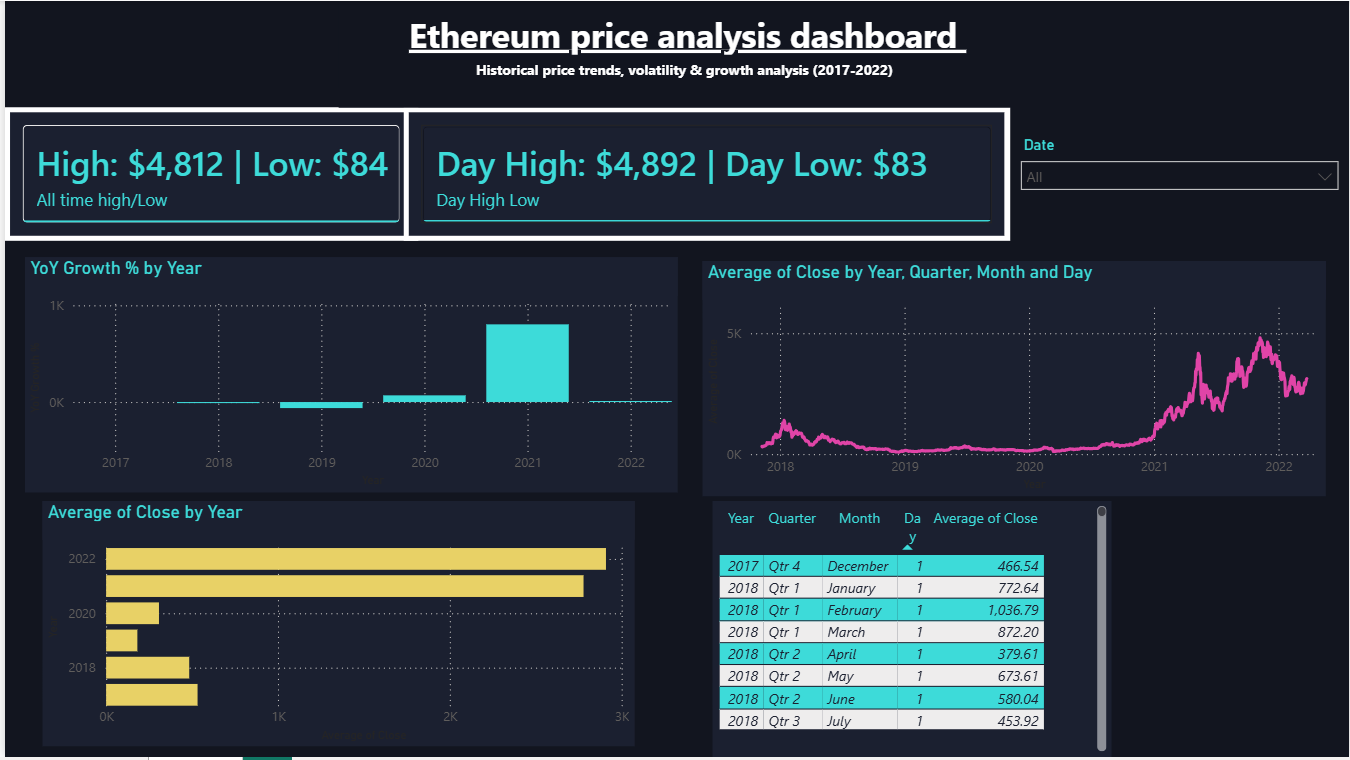

The page's visual inventory and layout, read from the dashboard file:
{"tool":"powerbi","page":{"name":"Page 1","canvas":[1280,720],"ordinal":0},"visuals":[{"type":"lineChart","fields":{"Y":["Avg(ETH-USD csv.Close)"],"Category":["ETH-USD csv.Date.Variation.Date Hierarchy.Year","ETH-USD csv.Date.Variation.Date Hierarchy.Quarter","ETH-USD csv.Date.Variation.Date Hierarchy.Month","ETH-USD csv.Date.Variation.Date Hierarchy.Day"]},"box":[663.8,247.5,593.8,223.8],"z":0},{"type":"tableEx","fields":{"Values":["ETH-USD csv.Date.Variation.Date Hierarchy.Year","ETH-USD csv.Date.Variation.Date Hierarchy.Quarter","ETH-USD csv.Date.Variation.Date Hierarchy.Month","ETH-USD csv.Date.Variation.Date Hierarchy.Day","Avg(ETH-USD csv.Close)"]},"box":[673.8,476.2,380,243.8],"z":1000},{"type":"slicer","fields":{"Values":["ETH-USD csv.Date"]},"box":[957.5,123.8,322.5,82.5],"z":2000},{"type":"clusteredBarChart","fields":{"Category":["ETH-USD csv.Year"],"Y":["Avg(ETH-USD csv.Close)"]},"box":[36.2,476.2,563.8,233.8],"z":3000},{"type":"cardVisual","fields":{"Data":["ETH-USD csv.High Low Combined"]},"box":[0,101.2,393.8,127.5],"z":4000},{"type":"cardVisual","fields":{"Data":["ETH-USD csv.Day High Low"]},"box":[380,101.2,577.5,127.5],"z":5000},{"type":"clusteredColumnChart","fields":{"Category":["ETH-USD csv.Year"],"Y":["ETH-USD csv.YoY Growth %"]},"box":[18.8,243.8,621.2,223.8],"z":6000},{"type":"textbox","box":[317.5,0,692.5,101.2],"z":7000},{"type":"textbox","box":[381.2,51.2,538.8,41.2],"z":8000}]}

Visuals, with their boxes in screenshot pixels (x1, y1, x2, y2), scaled from the page's 1280x720 canvas onto the 1350x760 screenshot:
lineChart - Avg(ETH-USD csv.Close) x ETH-USD csv.Date.Variation.Date Hierarchy.Year: (700, 261, 1326, 497)
tableEx - ETH-USD csv.Date.Variation.Date Hierarchy.Year x ETH-USD csv.Date.Variation.Date Hierarchy.Quarter: (711, 503, 1111, 759)
slicer - ETH-USD csv.Date: (1010, 131, 1349, 218)
clusteredBarChart - ETH-USD csv.Year x Avg(ETH-USD csv.Close): (38, 503, 633, 749)
cardVisual - ETH-USD csv.High Low Combined: (0, 107, 415, 241)
cardVisual - ETH-USD csv.Day High Low: (401, 107, 1010, 241)
clusteredColumnChart - ETH-USD csv.Year x ETH-USD csv.YoY Growth %: (20, 257, 675, 494)
textbox: (335, 0, 1065, 107)
textbox: (402, 54, 970, 98)
